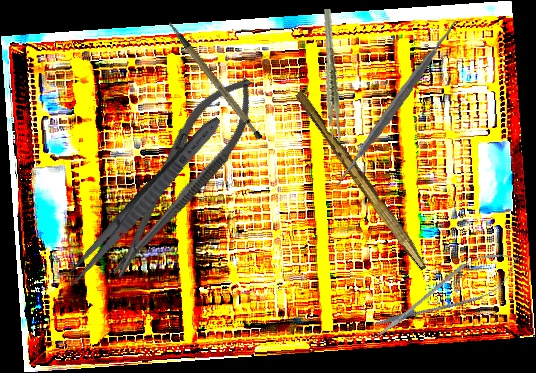Dressing Forceps: (59, 111, 227, 293)
Micro Scissor: (365, 239, 529, 349)
Needle Holder: (91, 63, 272, 291)
Scalpel Handle: (291, 89, 433, 272), (167, 9, 265, 150)
Spatula Surgical: (312, 20, 480, 187)
Tissue Forceps: (307, 8, 357, 144)
